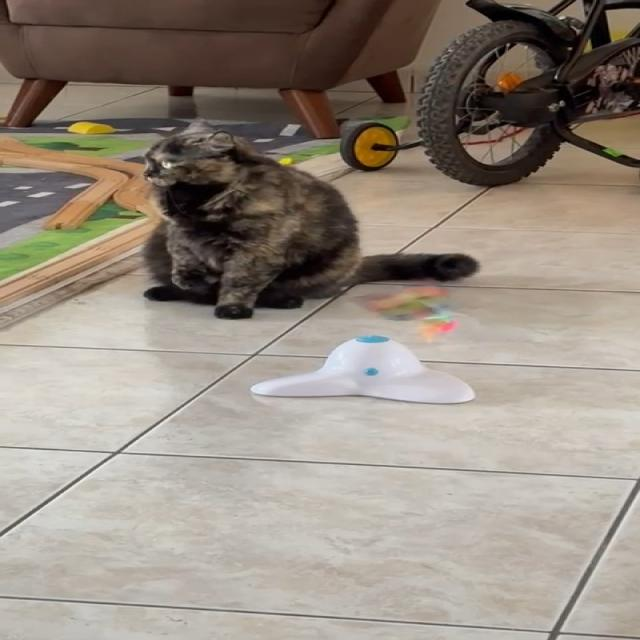authorized: (139, 118, 480, 320)
